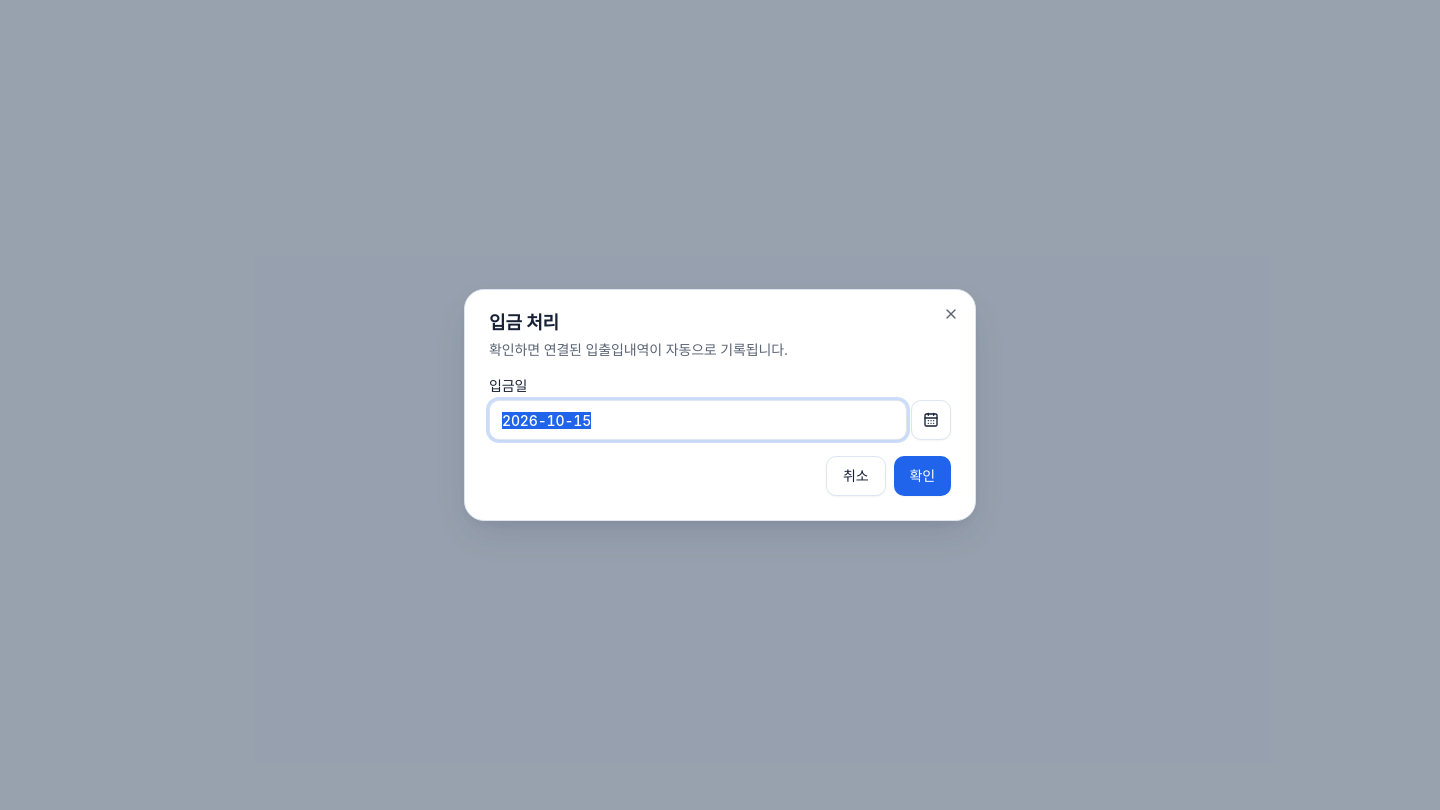
Test: PaymentDialog › 입금일을 비우면 확인을 막고 이유를 알려 준다
Clear the field labelled "입금일": (698,420) [489,400,907,440]
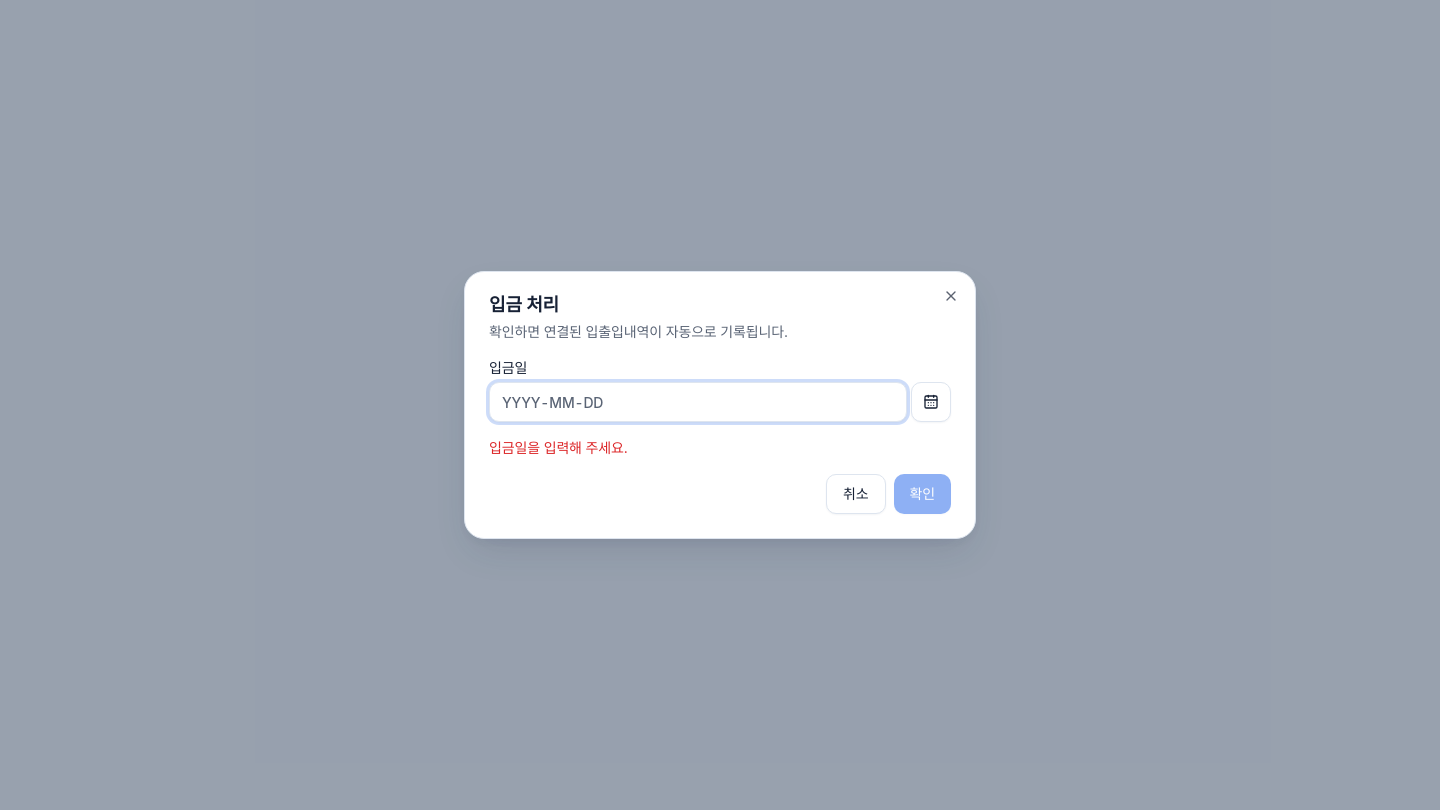
Result: the button "확인" is disabled at [894,474,951,514]
Result: the text "입금일을 입력해 주세요." is shown at [489,439,628,456]
